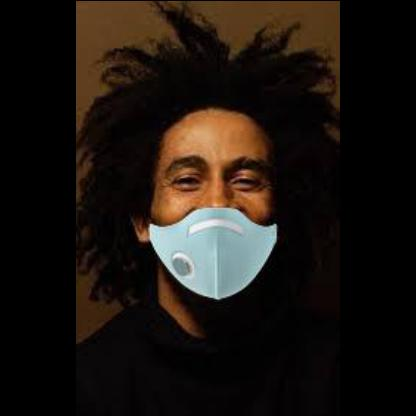FFP Mask: (141, 94, 286, 294)
